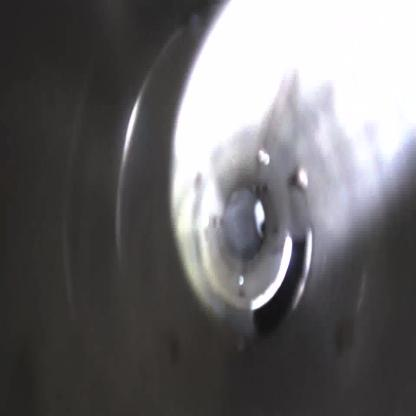Crack2: (249, 232, 316, 337)
